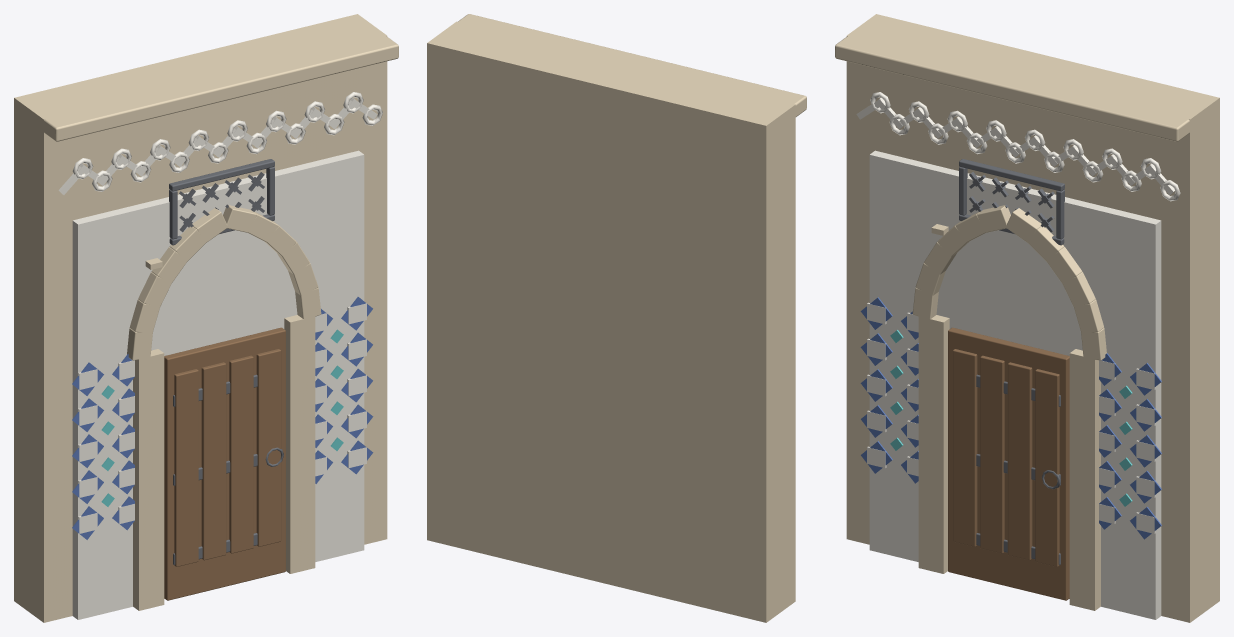
Rendered from madrasa-study-cell-ea2e148c.glb.
The picture shows the model from 3 angles, left to right: view 1: azimuth 30°, elevation 25°; view 2: azimuth 150°, elevation 25°; view 3: azimuth 330°, elevation 25°; orthographic projection.
Parts seen in each view (by area): view 1: madrasa-study-cell-front, door-cell/cedar, door-cell/iron; view 2: madrasa-study-cell-front; view 3: madrasa-study-cell-front, door-cell/cedar, door-cell/iron.
Part boxes in pixels (x1,y1,x2,y2): madrasa-study-cell-front: (14, 14, 398, 622); door-cell/cedar: (164, 327, 285, 600); door-cell/iron: (173, 374, 283, 565); madrasa-study-cell-front: (427, 14, 806, 622); madrasa-study-cell-front: (835, 14, 1219, 622); door-cell/cedar: (948, 327, 1069, 600); door-cell/iron: (976, 374, 1060, 565).
Bounding box in the file's own units: 3 × 4.2 × 0.6599.
